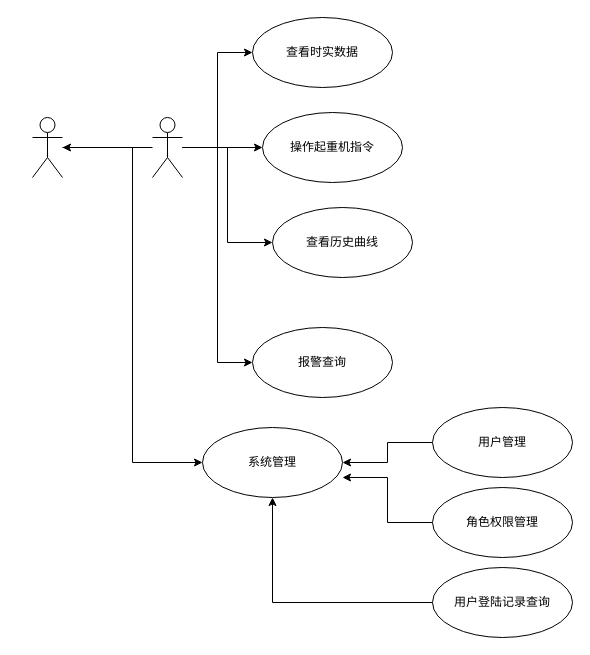
Image size: 590x655. Some labels were removed from this diagram. Each missing label, with the box of its shape:
司机: (152, 116, 182, 178)
系统管理员: (32, 116, 62, 178)
